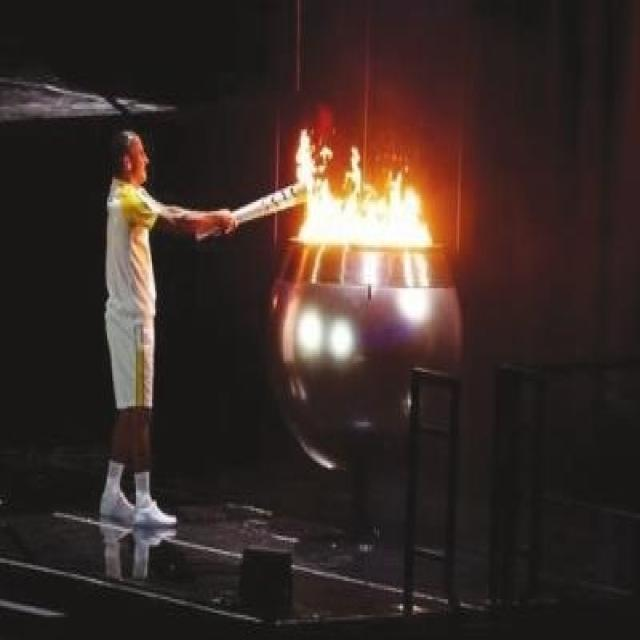Fire: (294, 129, 432, 250)
